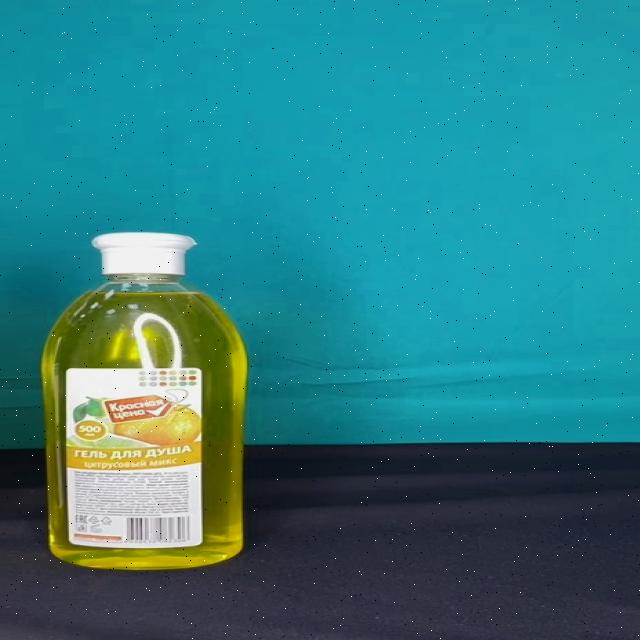Bottle: (40, 231, 247, 571)
Cap: (89, 233, 198, 276)
